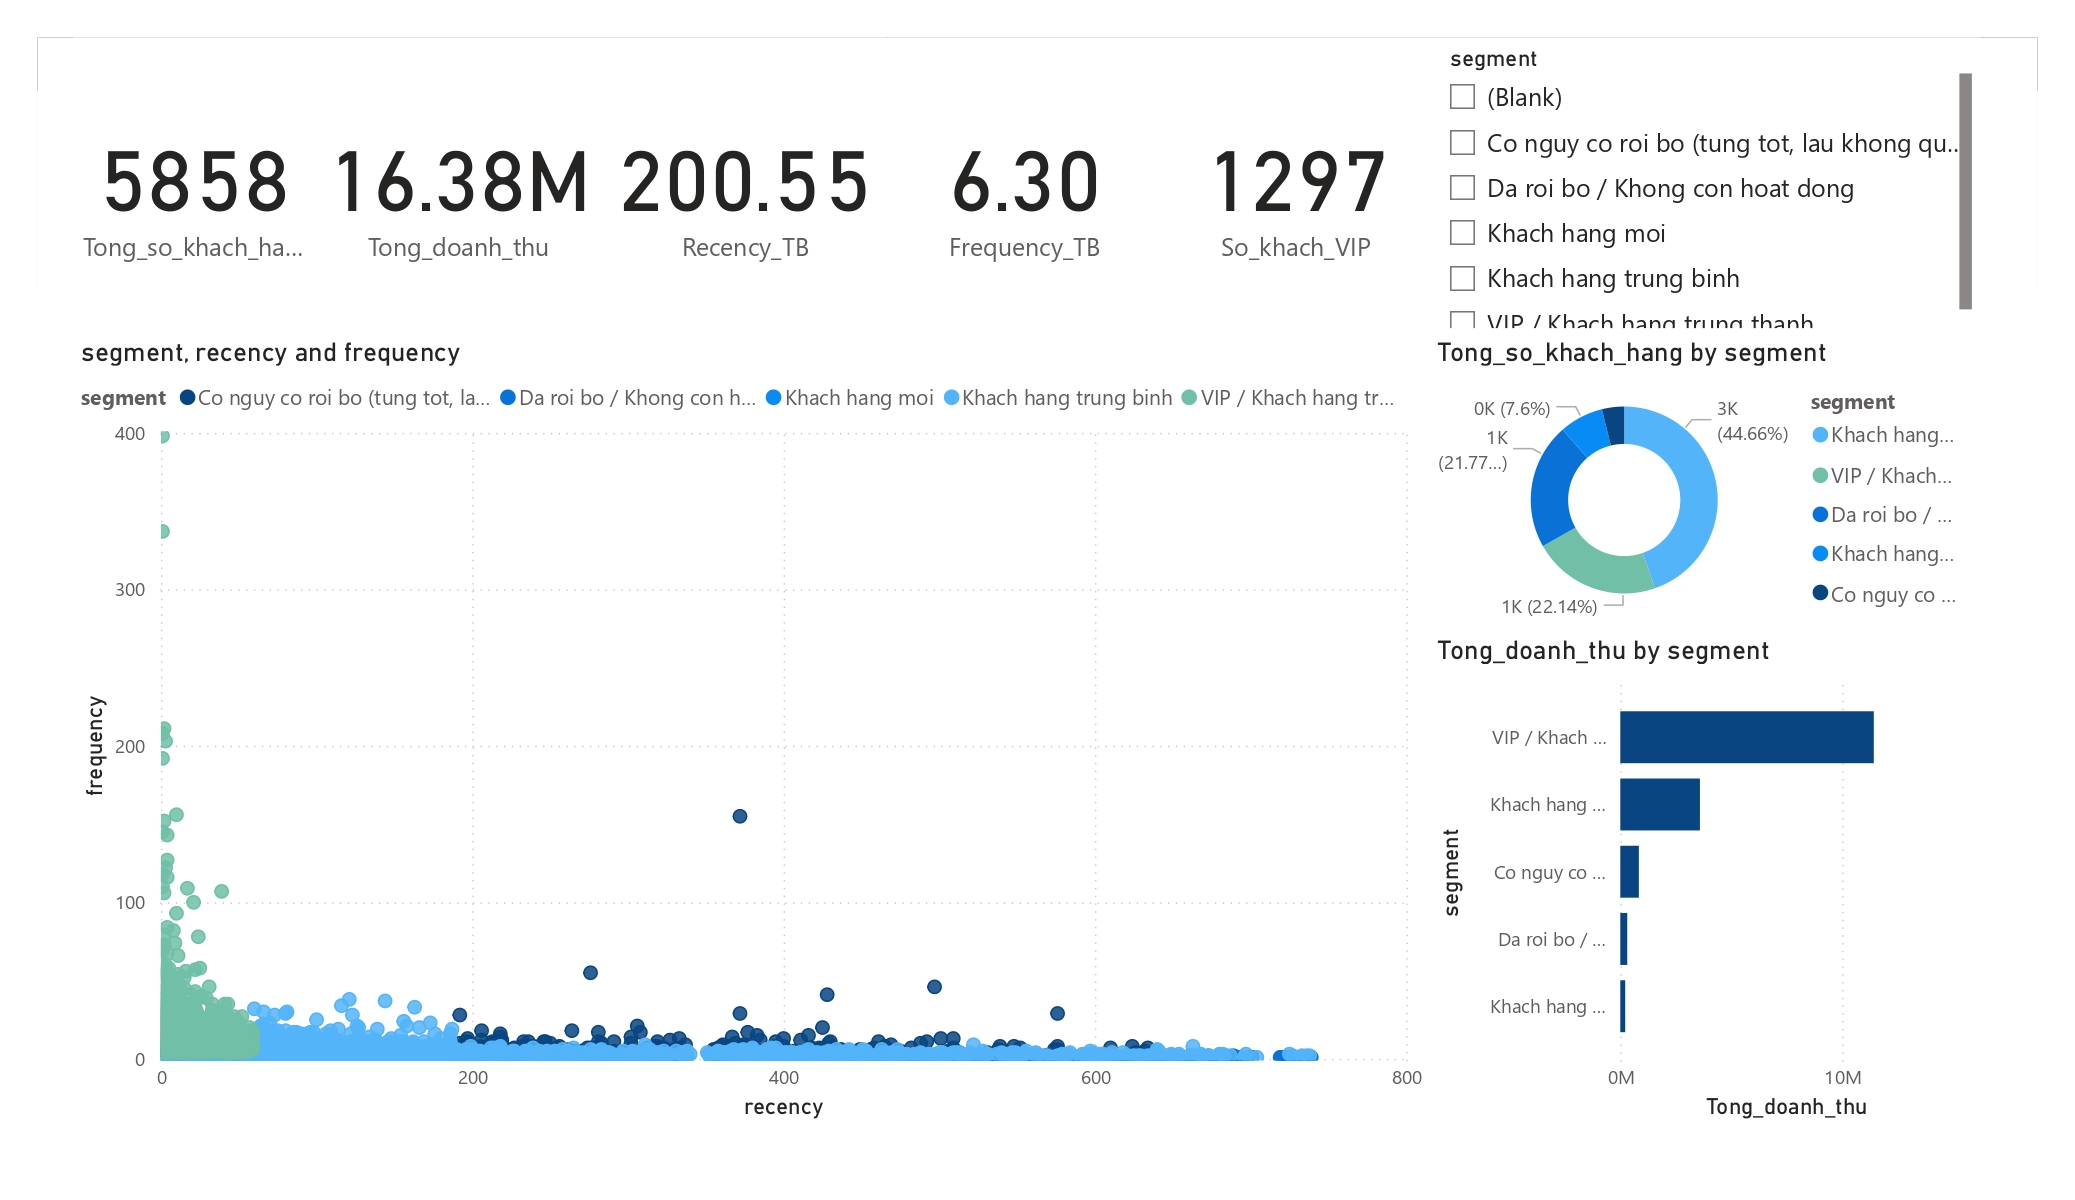

This screenshot's page, from the dashboard's own definition file:
{"tool":"powerbi","page":{"name":"Page 1","canvas":[1280,720],"ordinal":0},"visuals":[{"type":"card","fields":{"Values":["_Measures.Tong_so_khach_hang"]},"box":[0,0,161.5,190.6],"z":0},{"type":"card","fields":{"Values":["_Measures.Tong_doanh_thu"]},"box":[161.5,0,186.7,190.6],"z":1000},{"type":"card","fields":{"Values":["_Measures.Recency_TB"]},"box":[348.2,0,195.2,191],"z":2000},{"type":"card","fields":{"Values":["_Measures.Frequency_TB"]},"box":[543.7,0,176,190.6],"z":3000},{"type":"card","fields":{"Values":["_Measures.So_khach_VIP"]},"box":[719.8,0,171.2,190.6],"z":4000},{"type":"donutChart","fields":{"Category":["customer_rfm.segment"],"Y":["_Measures.Tong_so_khach_hang"]},"box":[890.9,190.6,389.1,191.6],"z":5000},{"type":"barChart","fields":{"Category":["customer_rfm.segment"],"Y":["_Measures.Tong_doanh_thu"]},"box":[890.9,382.2,389.1,337.5],"z":6000},{"type":"scatterChart","fields":{"X":["customer_rfm.recency"],"Y":["customer_rfm.frequency"],"Series":["customer_rfm.segment"]},"box":[0,190.6,890.9,529.1],"z":7000},{"type":"slicer","fields":{"Values":["customer_rfm.segment"]},"box":[890.7,0,389.6,191],"z":8000}]}

Visuals, with their boxes on the page's 1280x720 design canvas (x1, y1, x2, y2). These are canvas units, not pixel positions in the 2075x1200 screenshot, which may show the page scaled, cropped or inside an application window:
card - _Measures.Tong_so_khach_hang: [x1=0, y1=0, x2=162, y2=191]
card - _Measures.Tong_doanh_thu: [x1=162, y1=0, x2=348, y2=191]
card - _Measures.Recency_TB: [x1=348, y1=0, x2=543, y2=191]
card - _Measures.Frequency_TB: [x1=544, y1=0, x2=720, y2=191]
card - _Measures.So_khach_VIP: [x1=720, y1=0, x2=891, y2=191]
donutChart - customer_rfm.segment x _Measures.Tong_so_khach_hang: [x1=891, y1=191, x2=1280, y2=382]
barChart - customer_rfm.segment x _Measures.Tong_doanh_thu: [x1=891, y1=382, x2=1280, y2=720]
scatterChart - customer_rfm.recency x customer_rfm.frequency: [x1=0, y1=191, x2=891, y2=720]
slicer - customer_rfm.segment: [x1=891, y1=0, x2=1280, y2=191]
